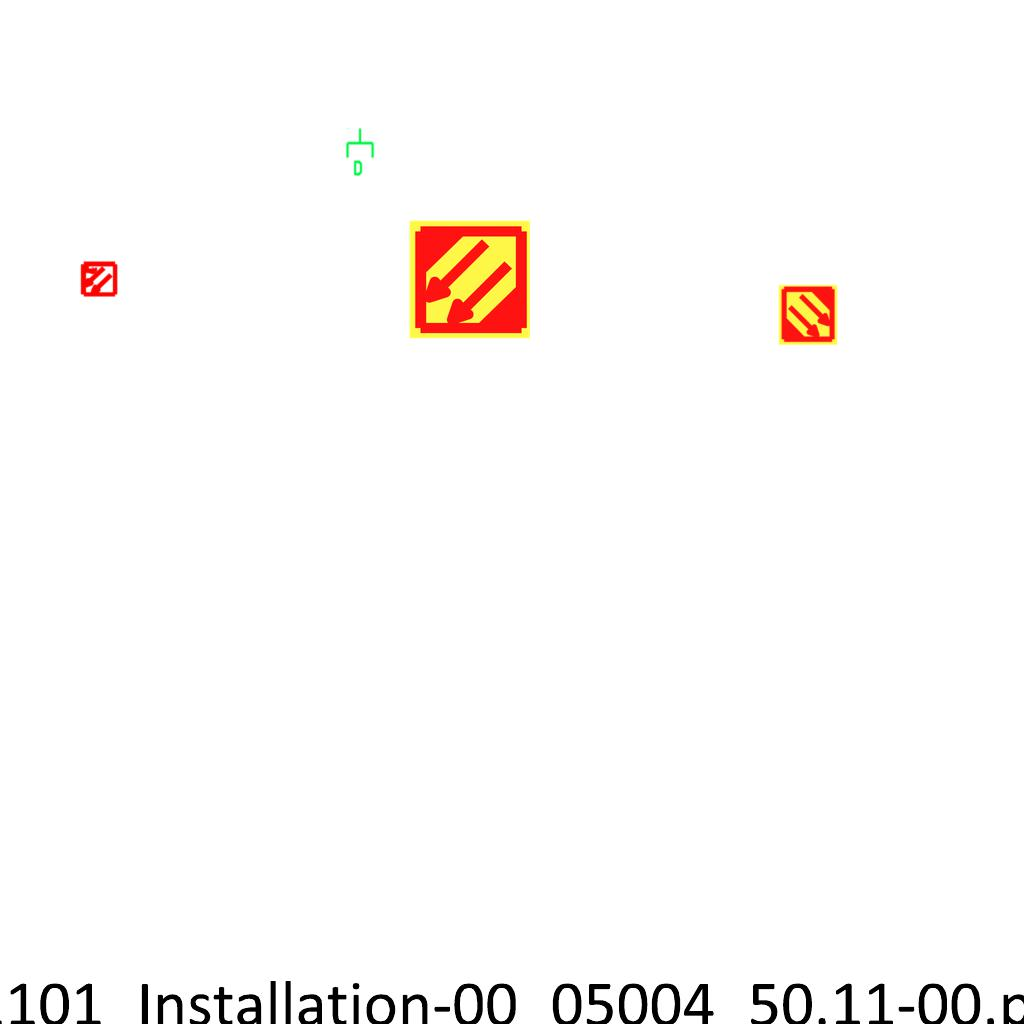ASR_Ansaugrauchmelder: (407, 217, 532, 342), (777, 284, 839, 346)
Datenanschluss_einfach: (344, 127, 378, 177)
OT_Multisensormelder_(Kombination_RMO_WMD): (70, 251, 126, 307)
